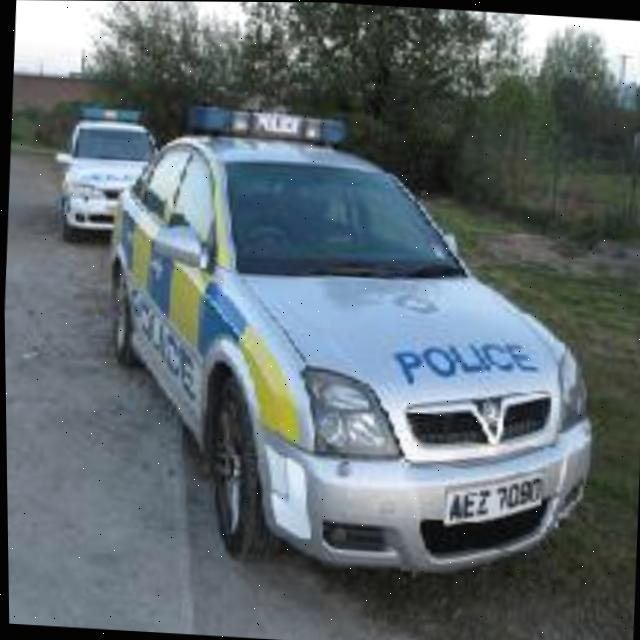emergency: (97, 97, 607, 580), (53, 105, 172, 244)
